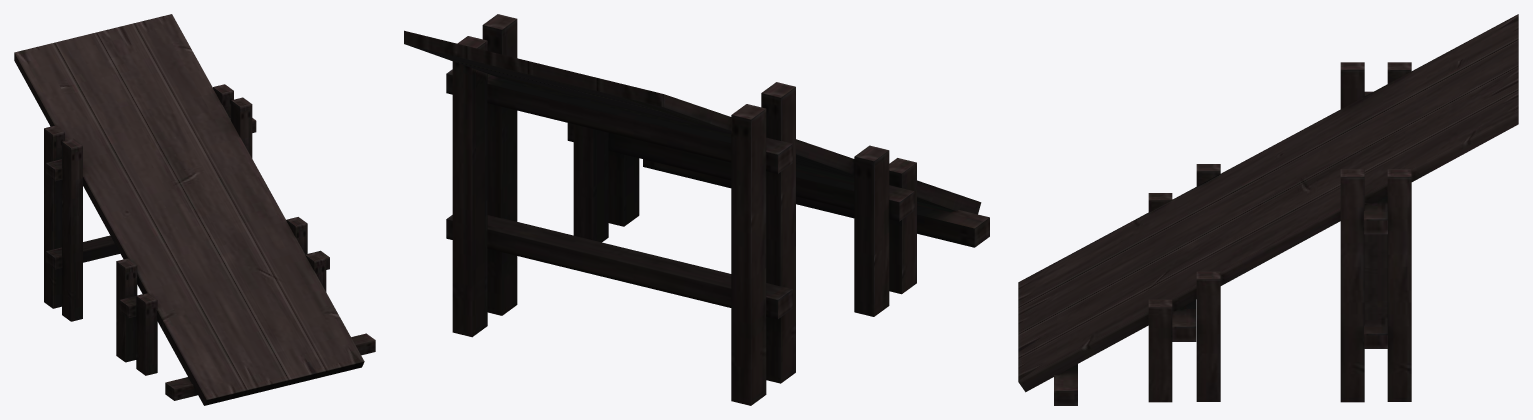
Rendered from modelBoardUp.fbx.
3 renders of one model, left to right at view 1: azimuth 30°, elevation 25°; view 2: azimuth 150°, elevation 25°; view 3: azimuth 270°, elevation 25°, orthographic. The views are drawn at different scales.
Visible parts, largest first — view 1: modelBoardUp; view 2: modelBoardUp; view 3: modelBoardUp.
Boxes of the visible parts, x1,y1,x2,y2 form: modelBoardUp: [14, 14, 375, 405]; modelBoardUp: [404, 14, 989, 405]; modelBoardUp: [1018, 14, 1518, 405].
Bounding box in the file's own units: 177 × 182 × 293.
